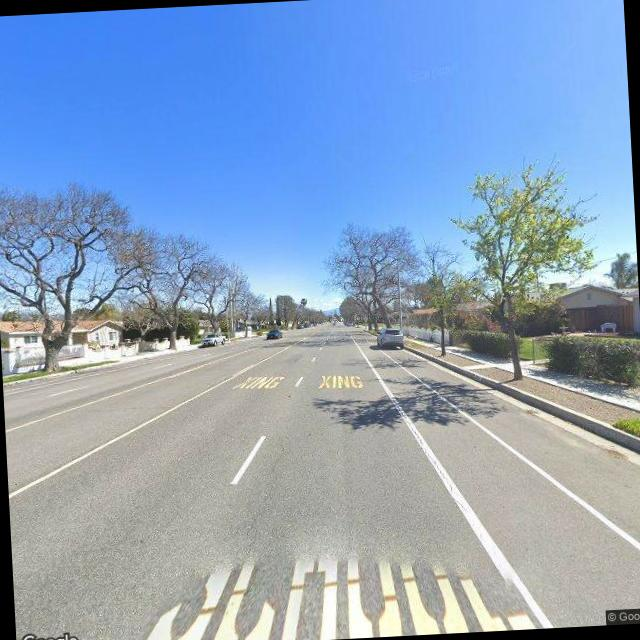pothole: (387, 383, 467, 512)
